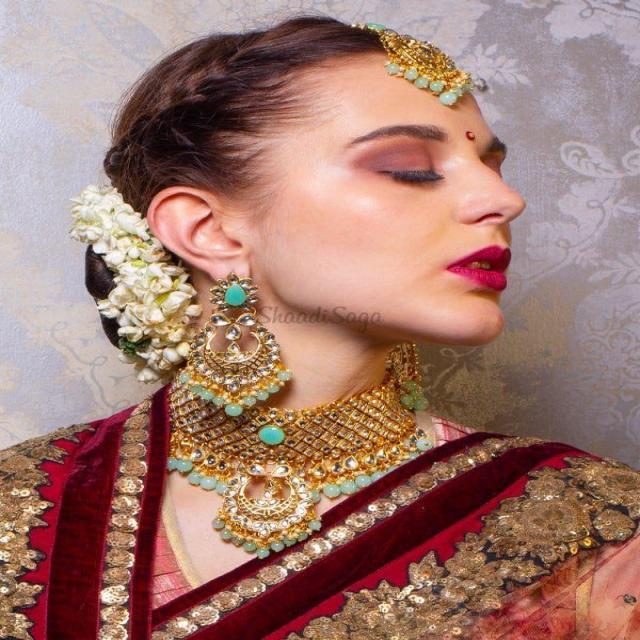Earring: (182, 264, 298, 420)
